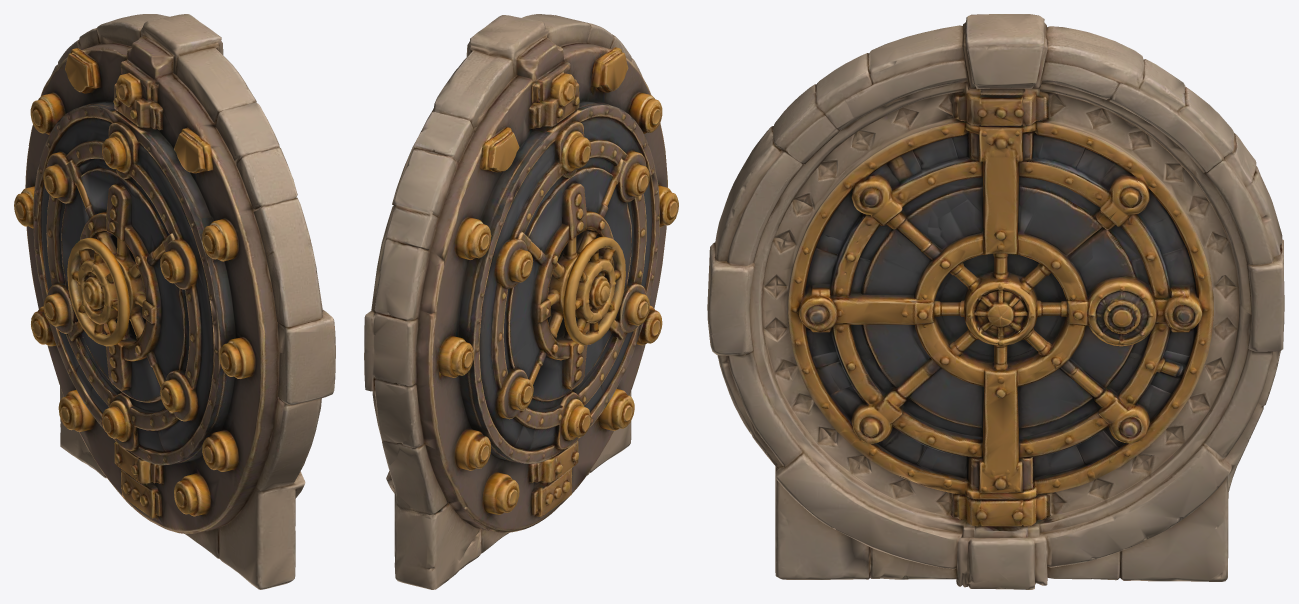
File: prop_vaultdoor.glb
The picture shows the model from 3 angles, left to right: view 1: azimuth 30°, elevation 25°; view 2: azimuth 150°, elevation 25°; view 3: azimuth 270°, elevation 25°; orthographic projection. The views are drawn at different scales.
Visible parts, largest first — view 1: tripo_node_946fcbf2-f96b-4cf8-8f9a-654c8934efad; view 2: tripo_node_946fcbf2-f96b-4cf8-8f9a-654c8934efad; view 3: tripo_node_946fcbf2-f96b-4cf8-8f9a-654c8934efad.
Part boxes in pixels (bbox=[...]): tripo_node_946fcbf2-f96b-4cf8-8f9a-654c8934efad: bbox=[14, 14, 335, 589]; tripo_node_946fcbf2-f96b-4cf8-8f9a-654c8934efad: bbox=[364, 14, 678, 589]; tripo_node_946fcbf2-f96b-4cf8-8f9a-654c8934efad: bbox=[707, 14, 1284, 589].
Size of the model in its own units: 0.2717 by 0.9795 by 0.9336.
Materials: 1 (1 with a texture image).
